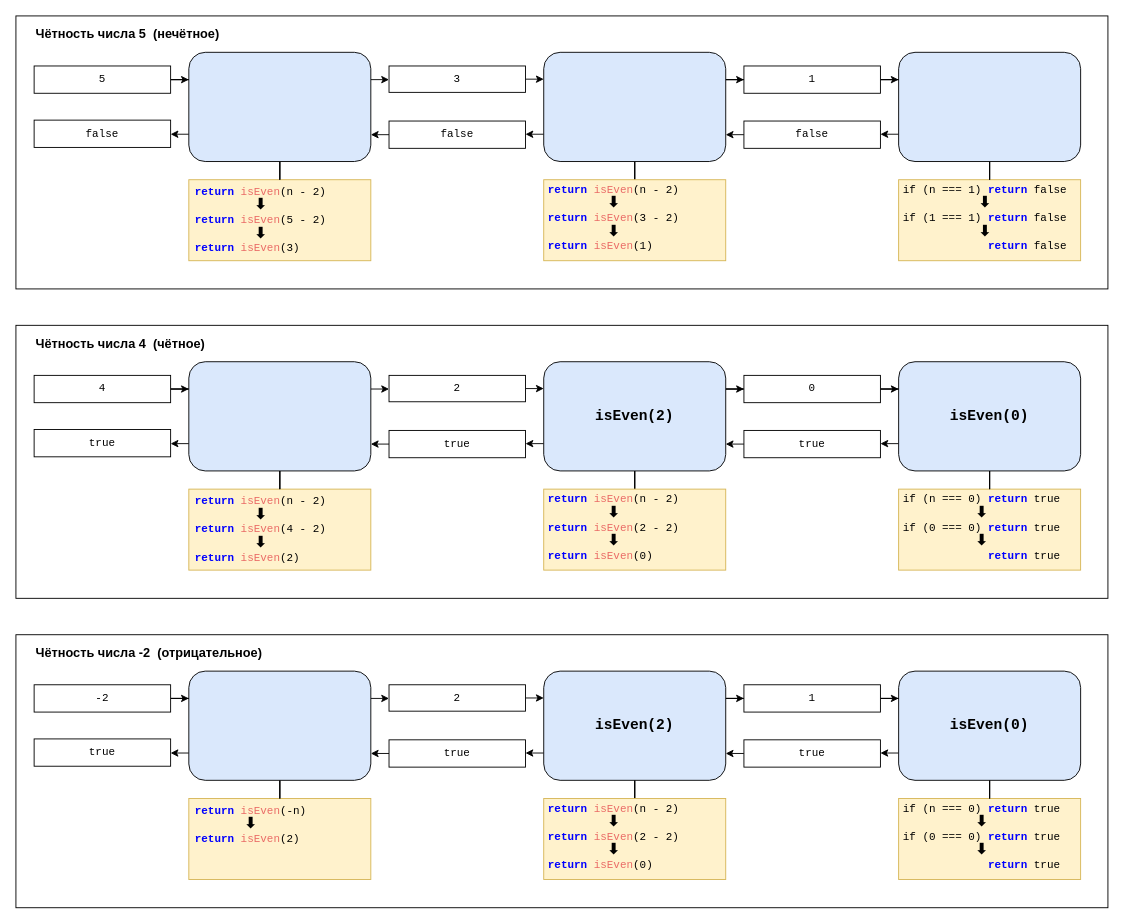
This 1124x924 diagram has some shape labels left out. The centre of each missing label's shape, as x and y in pixels:
"isEven(-2)" belongs at (279,725).
"isEven(1)" belongs at (989,106).
"isEven(3)" belongs at (634,106).
"isEven(4)" belongs at (279,416).
"isEven(5)" belongs at (279,106).
